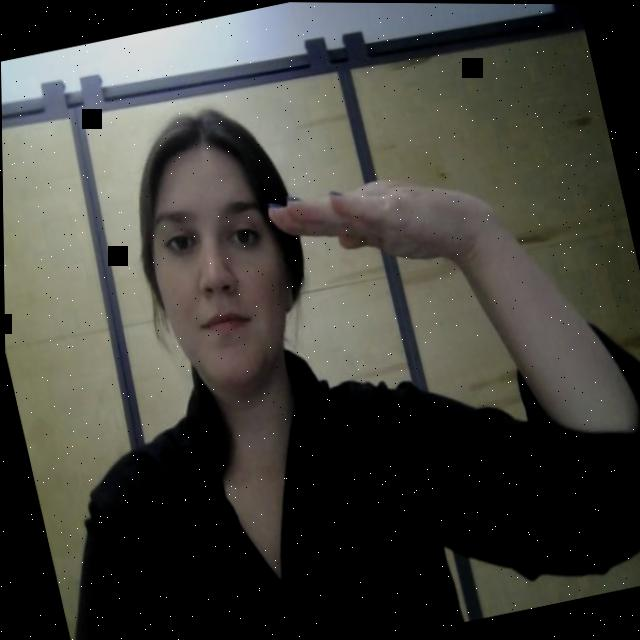Paper: (257, 148, 484, 305)
